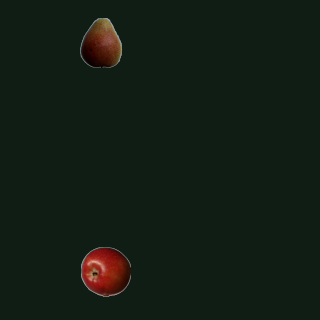Apple Braeburn: (80, 246, 130, 296)
Pear Forelle: (75, 17, 125, 67)
